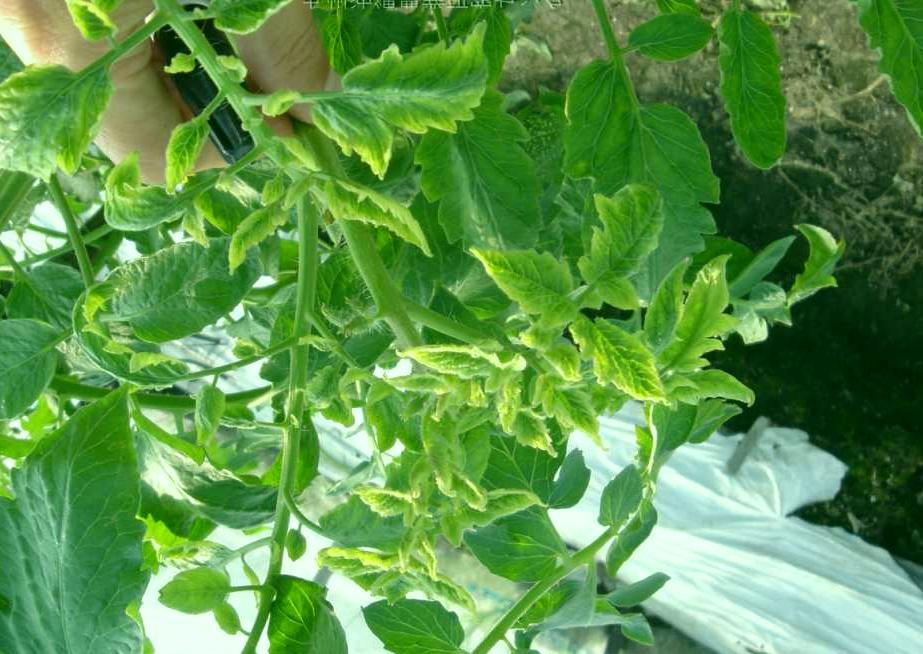Tomato leaf yellow virus: (306, 16, 516, 172), (0, 42, 137, 181), (284, 151, 441, 266), (463, 242, 589, 329), (580, 177, 665, 299), (103, 172, 235, 243), (576, 316, 670, 403), (391, 332, 512, 384), (206, 0, 302, 40), (348, 474, 420, 527)
